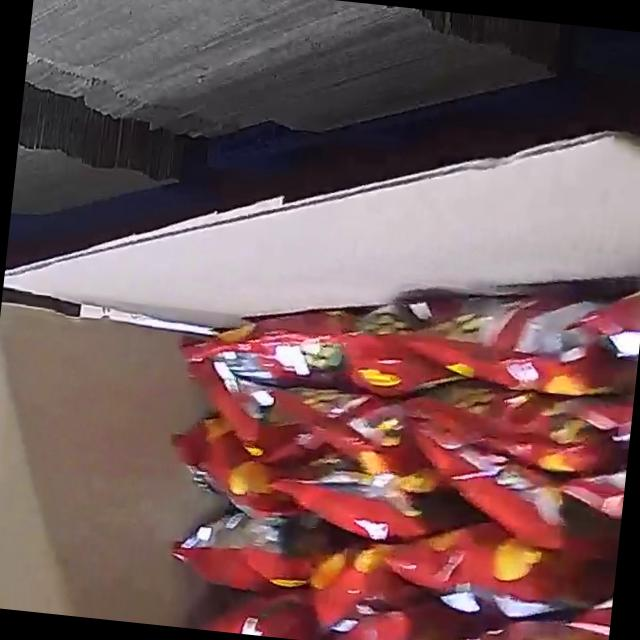masala: (144, 234, 640, 640)
